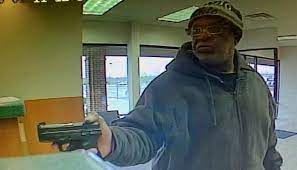gun: (33, 117, 112, 153)
